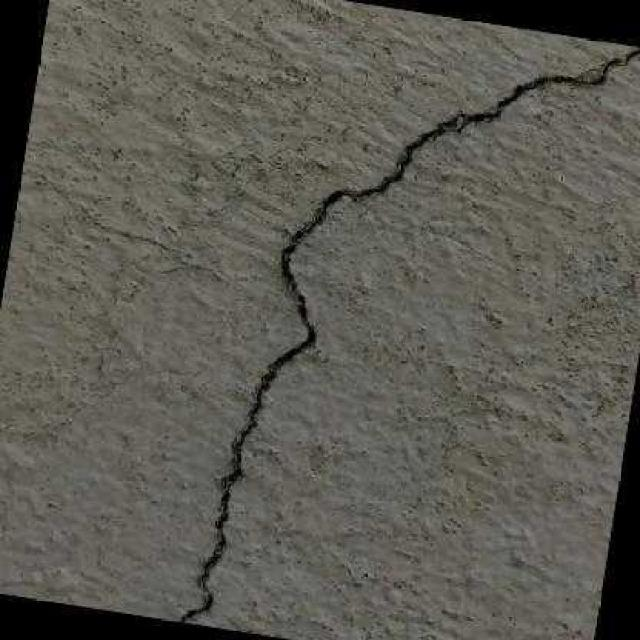D00: (176, 46, 640, 623)
